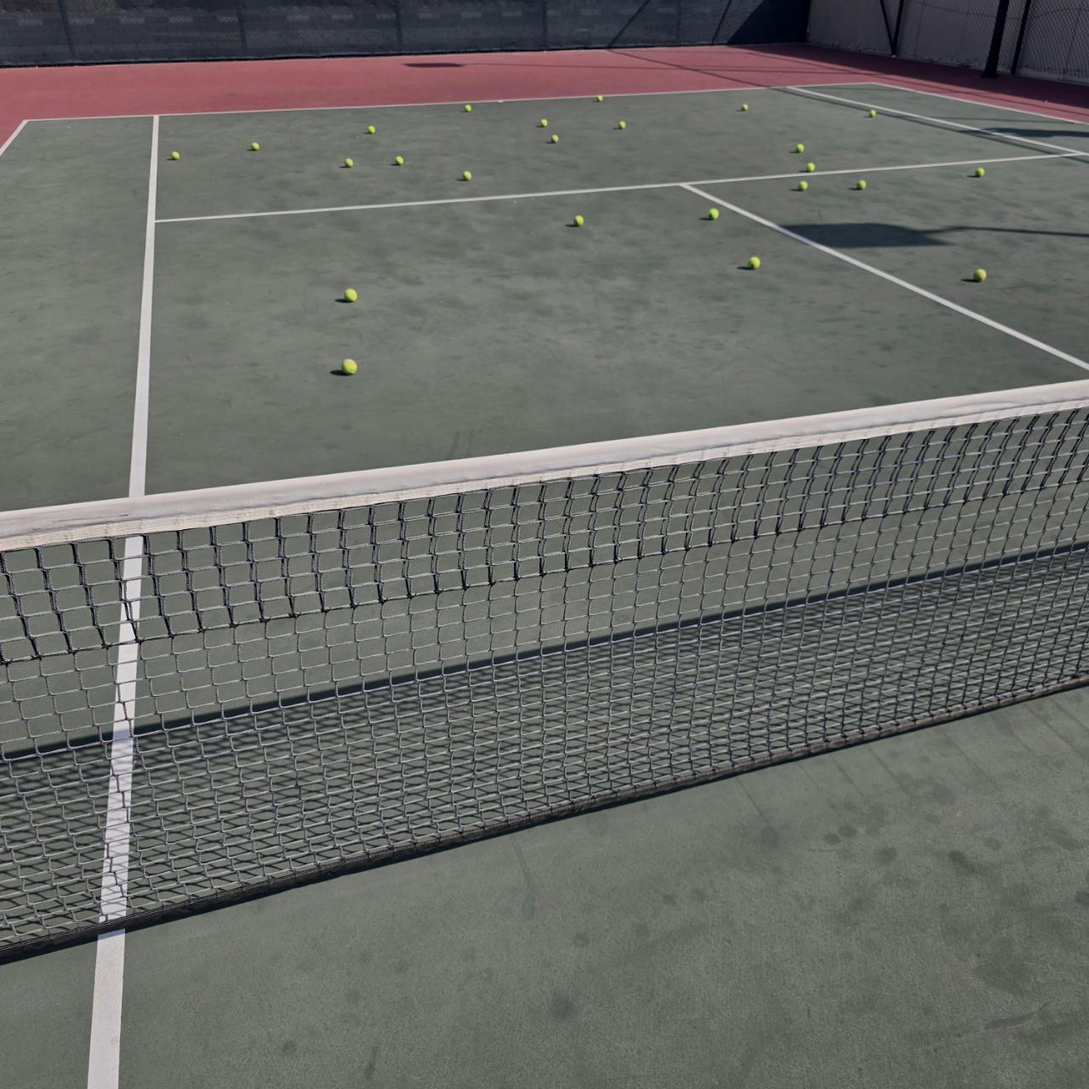tennis-ball: (341, 356, 356, 374), (343, 285, 357, 302), (747, 254, 761, 270), (972, 266, 986, 282), (707, 208, 720, 221), (573, 213, 584, 226), (855, 179, 868, 190), (462, 170, 473, 182), (798, 180, 810, 191), (974, 167, 985, 178), (170, 151, 181, 161), (394, 155, 404, 166), (805, 162, 815, 172), (250, 142, 261, 151), (795, 143, 804, 154), (344, 158, 353, 168), (868, 109, 877, 119), (367, 125, 376, 134), (617, 120, 626, 129), (550, 134, 558, 144), (540, 119, 548, 128), (464, 104, 472, 112), (596, 95, 603, 103), (741, 104, 748, 111)
